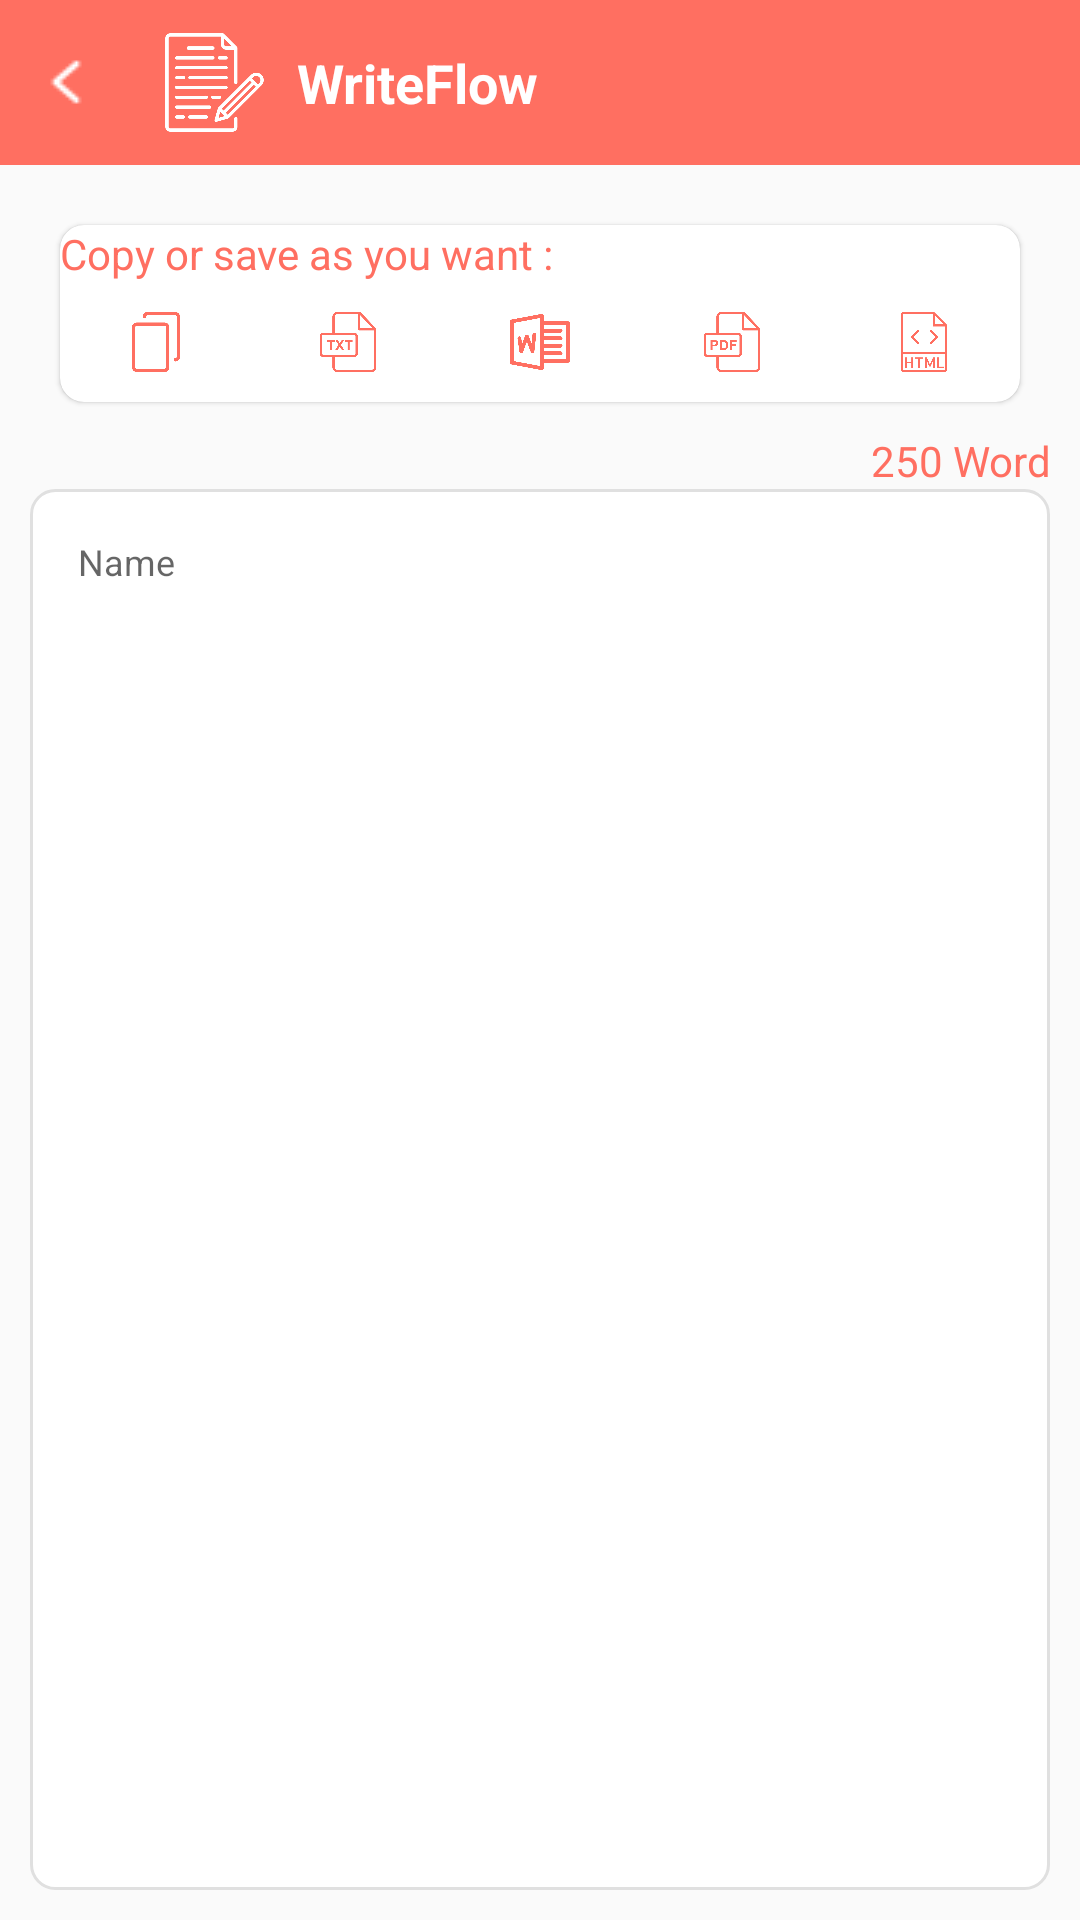

Icons on this 1080x1920 Android screen, each with the point to tap as point (x, y):
paraphraser: point (214, 82)
